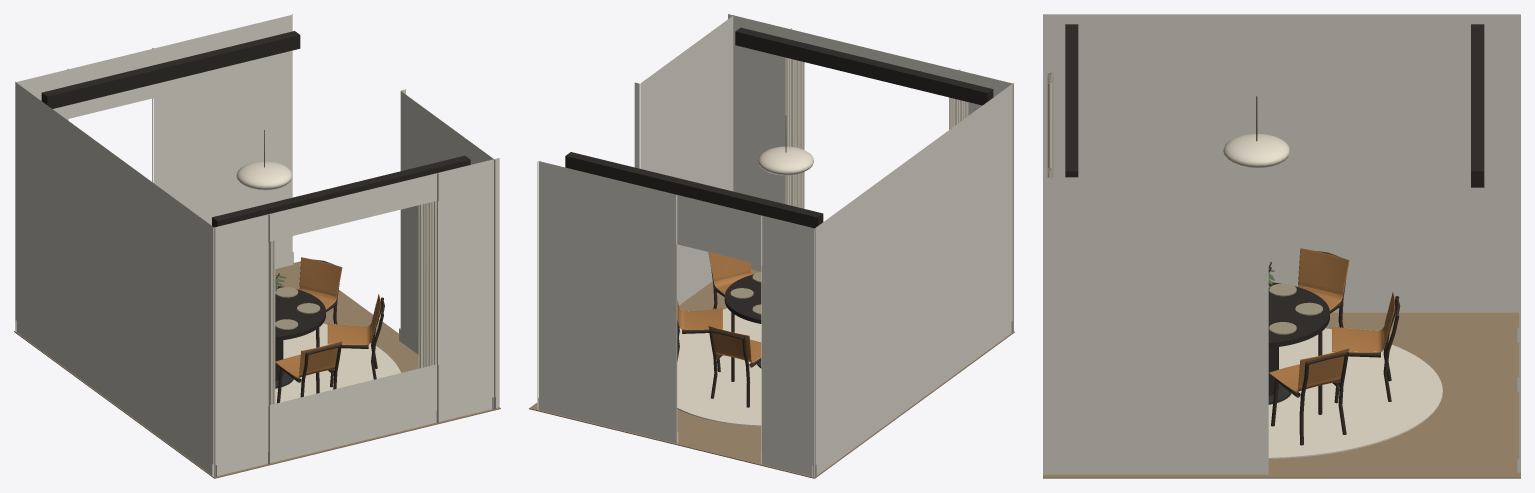
Rendered from dining-2.glb.
The picture shows the model from 3 angles, left to right: view 1: azimuth 30°, elevation 25°; view 2: azimuth 150°, elevation 25°; view 3: azimuth 270°, elevation 25°; orthographic projection. The views are drawn at different scales.
Visible parts, largest first — view 1: DESIGN | dining removable wall finish, DESIGN | Dining timber threshold.001, DESIGN | dining floor finish, DESIGN | Dining ground, DESIGN | Dining linen edge.001, DESIGN | Dining timber threshold, DESIGN | Required Isadora dining chair 5, DESIGN | Required Isadora dining chair 1, DESIGN | Dining table top, DESIGN | Required Isadora dining chair 6, DESIGN | Dining light 1 shade, DESIGN | Dining linen edge; view 2: DESIGN | dining removable wall finish, DESIGN | Dining ground, DESIGN | Dining timber threshold, DESIGN | dining floor finish, DESIGN | Dining timber threshold.001, DESIGN | Dining linen edge.001, DESIGN | Required Isadora dining chair 2, DESIGN | Dining light 1 shade, DESIGN | Required Isadora dining chair 6, DESIGN | Required Isadora dining chair 1, DESIGN | Dining table top; view 3: DESIGN | dining removable wall finish, DESIGN | dining floor finish, DESIGN | Dining ground, DESIGN | Required Isadora dining chair 1, DESIGN | Required Isadora dining chair 3, DESIGN | Dining table top, DESIGN | Required Isadora dining chair 2, DESIGN | Dining timber threshold.001, DESIGN | Dining timber threshold, DESIGN | Dining light 1 shade, DESIGN | Dining linen edge.
Boxes of the visible parts, bbox=[...] form: DESIGN | dining removable wall finish: bbox=[15, 14, 499, 477]; DESIGN | Dining timber threshold.001: bbox=[41, 31, 300, 108]; DESIGN | dining floor finish: bbox=[14, 261, 500, 478]; DESIGN | Dining ground: bbox=[275, 323, 400, 403]; DESIGN | Dining linen edge.001: bbox=[418, 201, 436, 368]; DESIGN | Dining timber threshold: bbox=[212, 155, 470, 227]; DESIGN | Required Isadora dining chair 5: bbox=[275, 340, 342, 403]; DESIGN | Required Isadora dining chair 1: bbox=[299, 257, 342, 347]; DESIGN | Dining table top: bbox=[275, 286, 325, 340]; DESIGN | Required Isadora dining chair 6: bbox=[327, 294, 384, 387]; DESIGN | Dining light 1 shade: bbox=[236, 161, 292, 190]; DESIGN | Dining linen edge: bbox=[268, 240, 275, 405]; DESIGN | dining removable wall finish: bbox=[537, 14, 1013, 477]; DESIGN | Dining ground: bbox=[677, 308, 761, 426]; DESIGN | Dining timber threshold: bbox=[735, 27, 993, 105]; DESIGN | dining floor finish: bbox=[529, 269, 1014, 478]; DESIGN | Dining timber threshold.001: bbox=[565, 152, 823, 228]; DESIGN | Dining linen edge.001: bbox=[785, 57, 804, 208]; DESIGN | Required Isadora dining chair 2: bbox=[708, 325, 761, 407]; DESIGN | Dining light 1 shade: bbox=[758, 146, 813, 175]; DESIGN | Required Isadora dining chair 6: bbox=[708, 252, 751, 332]; DESIGN | Required Isadora dining chair 1: bbox=[677, 300, 722, 371]; DESIGN | Dining table top: bbox=[724, 274, 761, 323]; DESIGN | dining removable wall finish: bbox=[1043, 14, 1520, 474]; DESIGN | dining floor finish: bbox=[1043, 312, 1520, 478]; DESIGN | Dining ground: bbox=[1268, 328, 1442, 459]; DESIGN | Required Isadora dining chair 1: bbox=[1269, 348, 1349, 445]; DESIGN | Required Isadora dining chair 3: bbox=[1297, 248, 1349, 355]; DESIGN | Dining table top: bbox=[1268, 282, 1329, 347]; DESIGN | Required Isadora dining chair 2: bbox=[1332, 292, 1400, 403]; DESIGN | Dining timber threshold.001: bbox=[1471, 24, 1484, 187]; DESIGN | Dining timber threshold: bbox=[1065, 24, 1078, 177]; DESIGN | Dining light 1 shade: bbox=[1223, 133, 1290, 168]; DESIGN | Dining linen edge: bbox=[1047, 72, 1053, 170].
Size of the model in its own units: 3.28 by 2.74 by 3.98.
